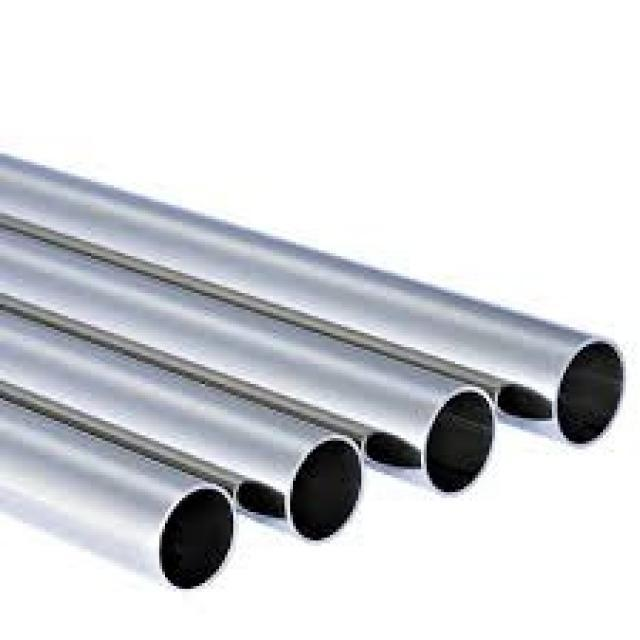pipe: (160, 490, 231, 590), (291, 441, 362, 540), (559, 343, 624, 444), (428, 393, 493, 493), (209, 523, 209, 524)
